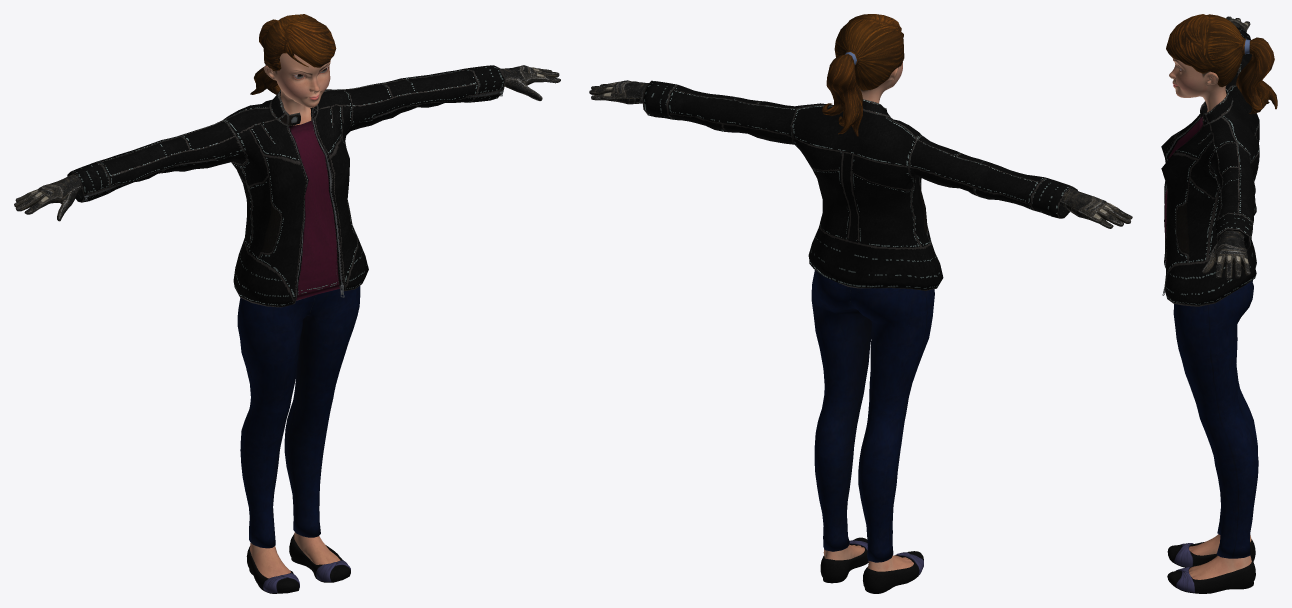
Rendered from Confident2.obj.
3 views of the same model, side by side, from view 1: azimuth 30°, elevation 25°; view 2: azimuth 150°, elevation 25°; view 3: azimuth 270°, elevation 25° (orthographic).
Parts seen in each view (by area): view 1: Tops, Bottoms, Body, Hair, Gloves, Shoes; view 2: Tops, Bottoms, Hair, Gloves, Shoes, Body; view 3: Tops, Bottoms, Hair, Body, Shoes, Gloves.
Boxes of the visible parts, box(x1,y1,x2,y2) form: Tops: box(67, 65, 506, 307); Bottoms: box(237, 286, 360, 548); Body: box(250, 53, 340, 578); Hair: box(250, 14, 336, 94); Gloves: box(14, 65, 560, 221); Shoes: box(246, 534, 350, 593); Tops: box(642, 80, 1077, 290); Bottoms: box(811, 270, 934, 562); Hair: box(822, 14, 904, 136); Gloves: box(589, 80, 1132, 228); Shoes: box(820, 537, 923, 593); Body: box(823, 62, 913, 571); Tops: box(1161, 27, 1259, 306); Bottoms: box(1173, 280, 1258, 558); Hair: box(1166, 14, 1277, 114); Body: box(1169, 57, 1251, 579); Shoes: box(1167, 539, 1255, 593); Gloves: box(1202, 16, 1250, 279).
Bounding box in the file's own units: 179 × 177 × 33.41.
6 materials, 6 textured.
